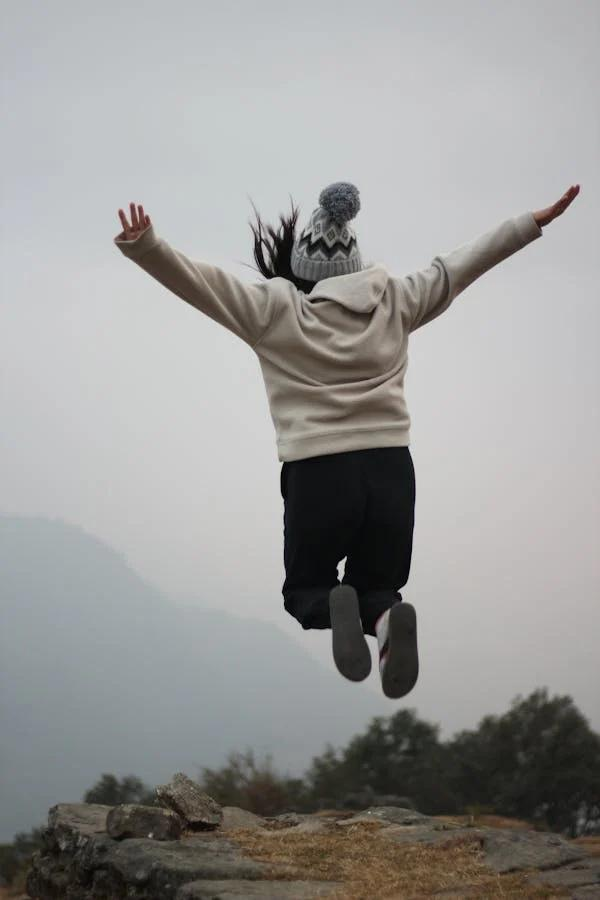Human: (136, 143, 552, 711)
